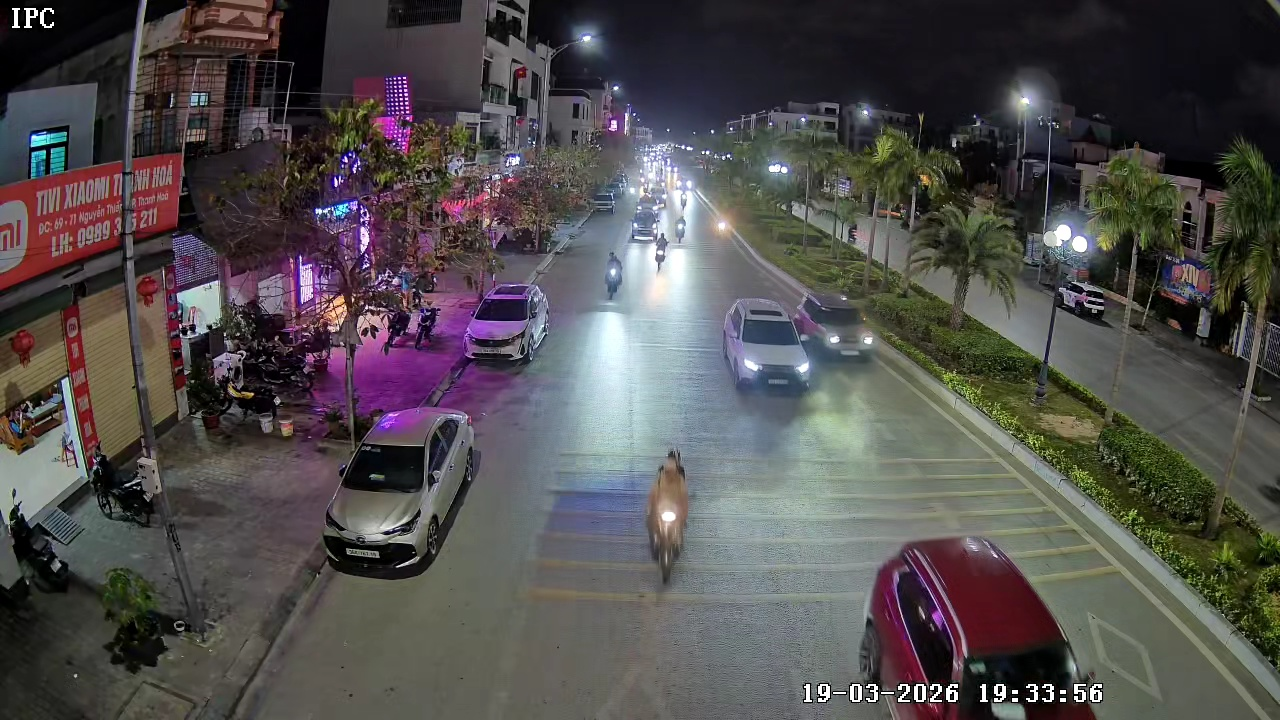car: (834, 531, 1107, 719), (322, 405, 481, 577), (721, 296, 814, 394), (465, 281, 552, 366), (795, 291, 875, 361), (628, 207, 662, 242)
motorbike: (641, 445, 695, 587), (604, 250, 624, 300), (652, 224, 669, 270), (674, 206, 689, 243)
